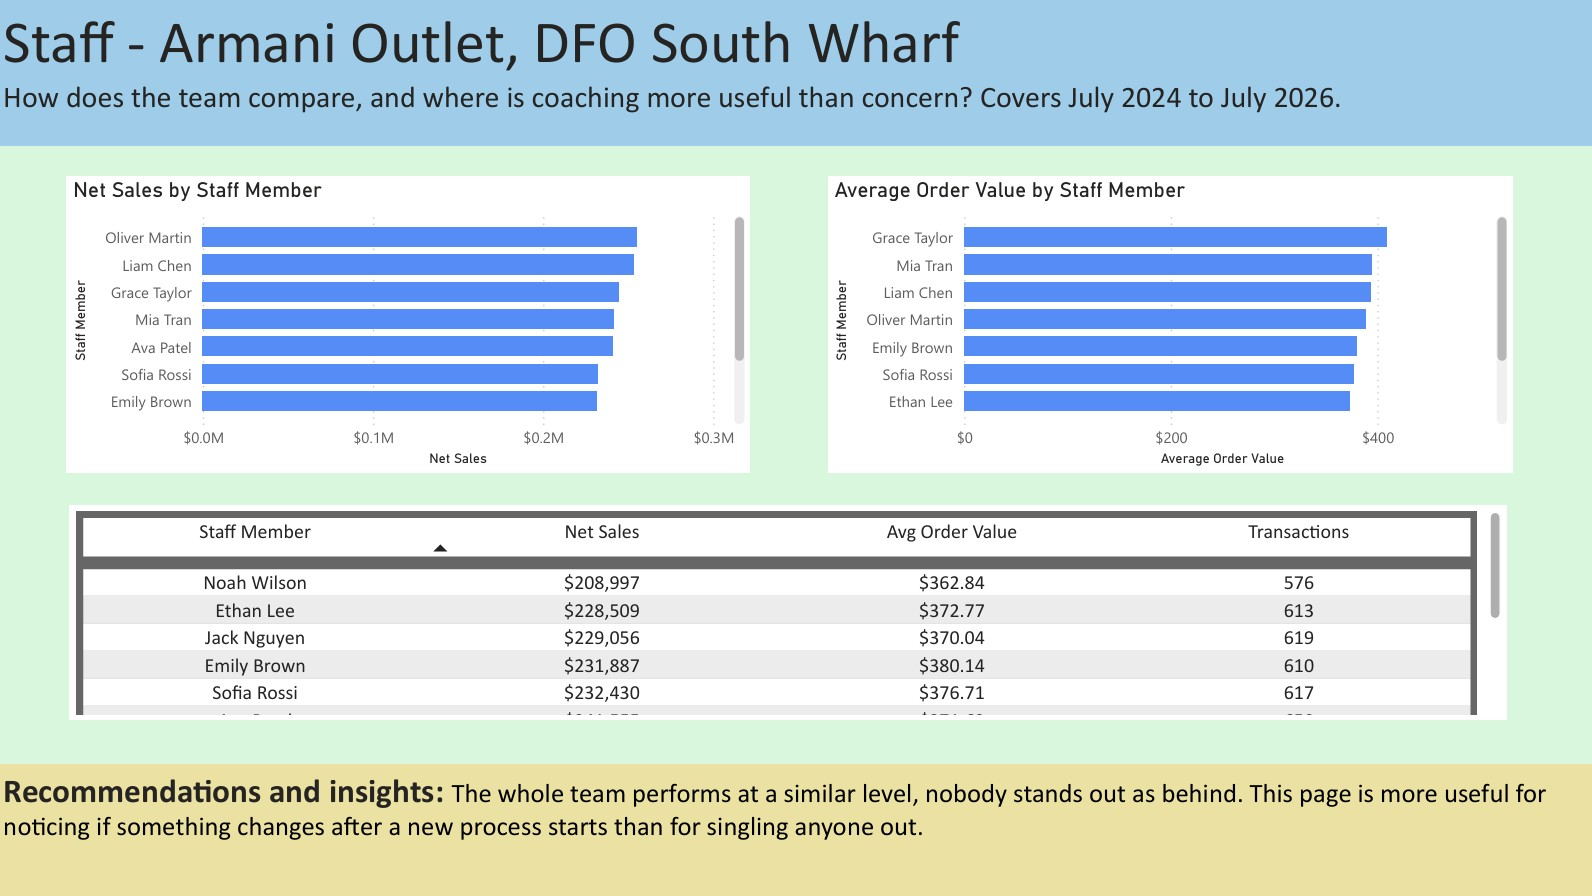

Layout of this report page (visuals, bound fields, positions):
{"tool":"powerbi","page":{"name":"Staff","canvas":[1280,720],"ordinal":3},"visuals":[{"type":"textbox","box":[0,0,1280.3,119.3],"z":0},{"type":"textbox","box":[0,613.1,1280.3,106.9],"z":1000},{"type":"clusteredBarChart","fields":{"Y":["Measure.Net Sales"],"Category":["Staff.Staff Member"]},"box":[55.8,143,547.7,237.2],"z":2000},{"type":"clusteredBarChart","title":"Average Order Value by Staff Member","fields":{"Y":["Measure.Avg Order Value"],"Category":["Staff.Staff Member"]},"box":[665.1,143,547.7,237.2],"z":3000},{"type":"tableEx","fields":{"Values":["Staff.Staff Member","Measure.Net Sales","Measure.Avg Order Value","Measure.Transactions"]},"box":[58.1,405.8,1150,172.1],"z":4000}]}

Visuals, with their boxes in screenshot pixels (x1, y1, x2, y2), scaled from the page's 1280x720 canvas onto the 1592x896 screenshot:
textbox: select_region(0, 0, 1591, 148)
textbox: select_region(0, 763, 1591, 895)
clusteredBarChart - Measure.Net Sales x Staff.Staff Member: select_region(69, 178, 751, 473)
"Average Order Value by Staff Member" clusteredBarChart: select_region(827, 178, 1508, 473)
tableEx - Staff.Staff Member x Measure.Net Sales: select_region(72, 505, 1503, 719)
